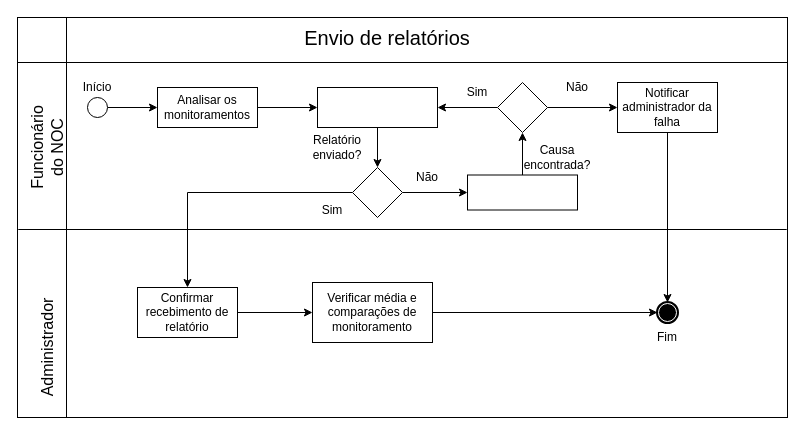
This 806x435 diagram has some shape labels left out. Each missing label, with the centre of its shape:
Enviar relatórios para o administrador: (377,107)
Verificar causa da falha: (522,192)
